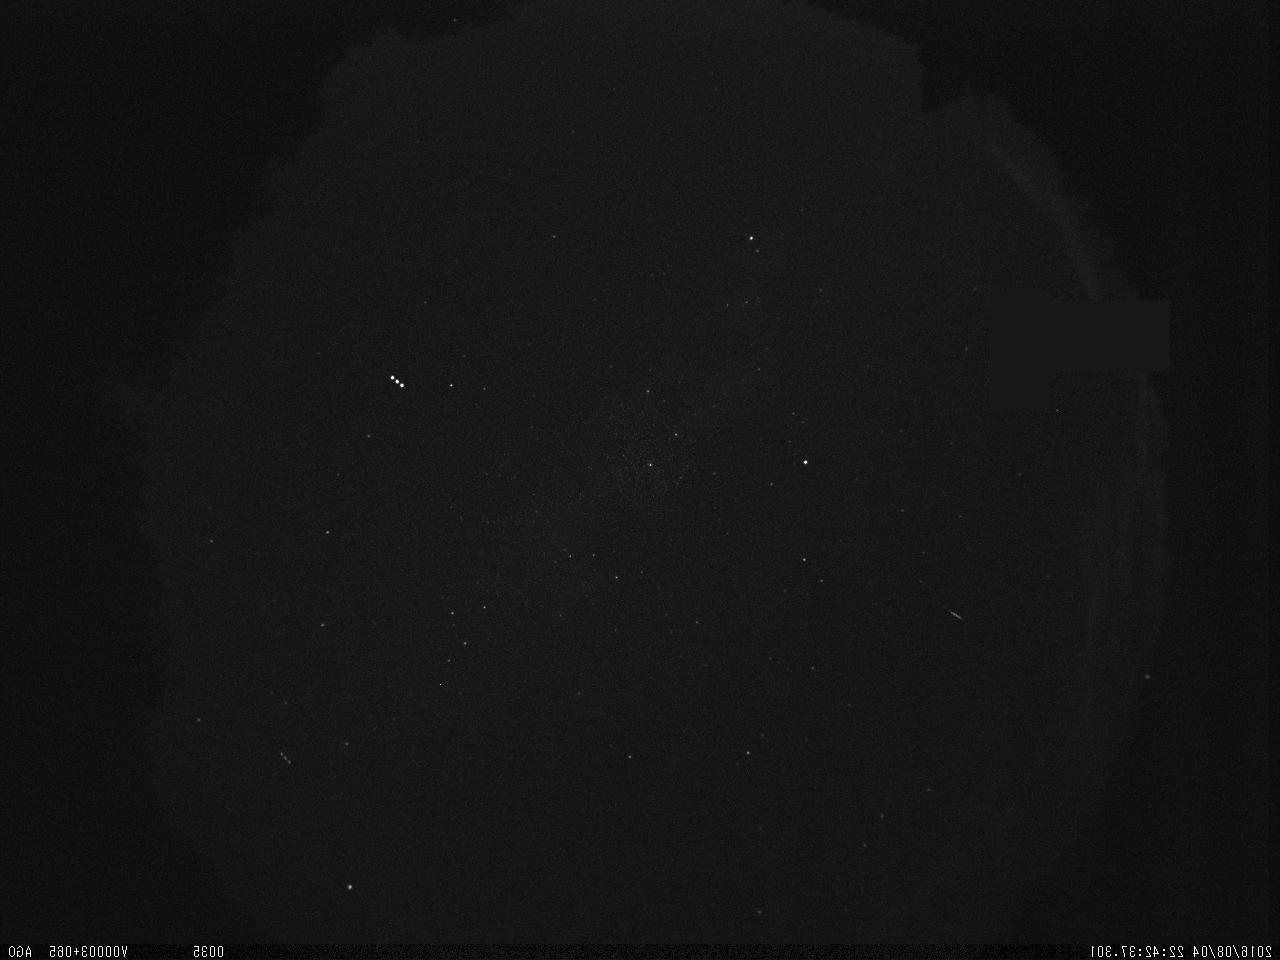satelite: (383, 368, 412, 396)
